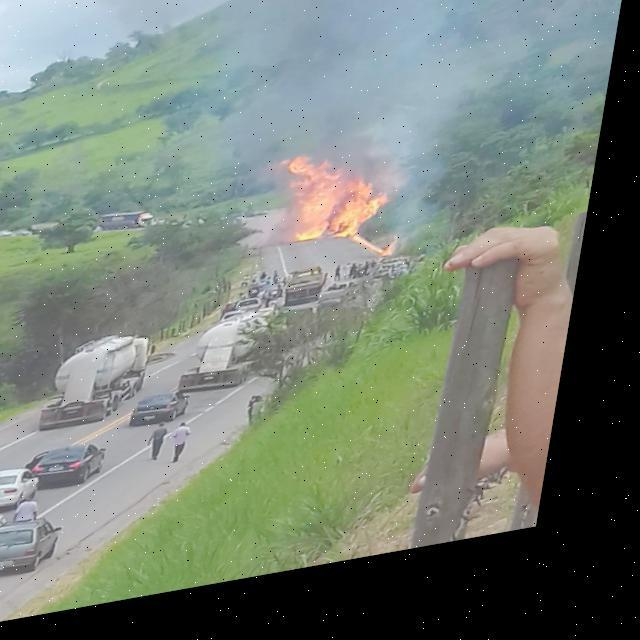Fire: (272, 152, 421, 290)
